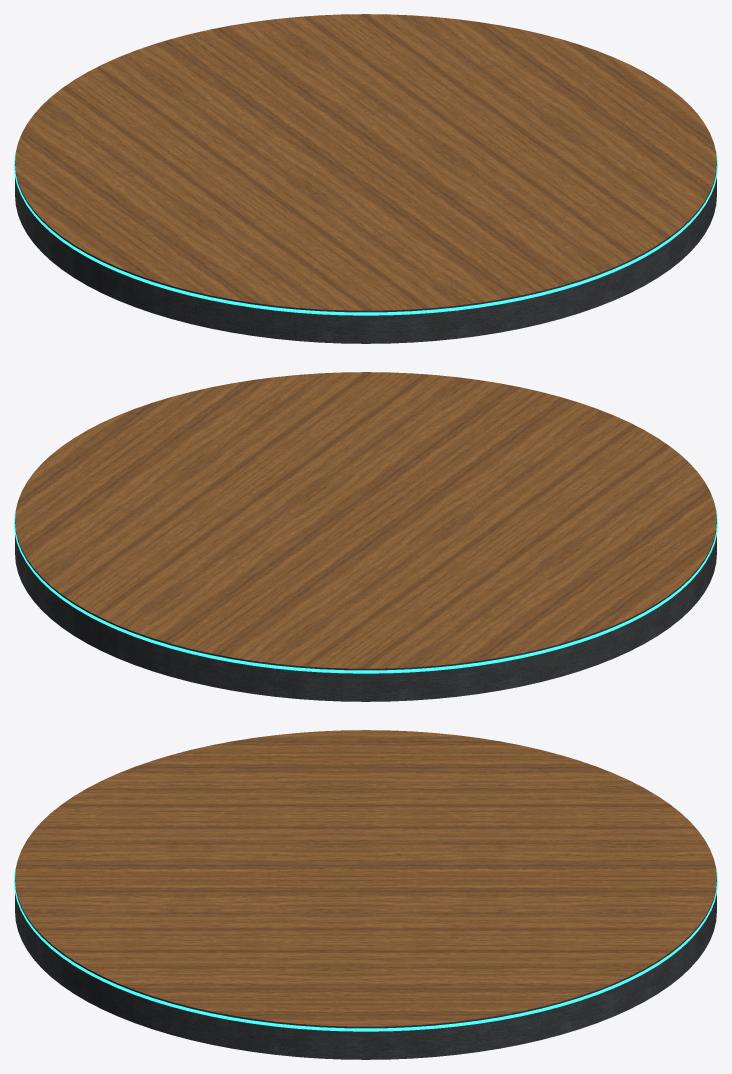
File: commons-round-stage.glb
3 views of the same model, one above another, from view 1: azimuth 30°, elevation 25°; view 2: azimuth 150°, elevation 25°; view 3: azimuth 270°, elevation 25° (orthographic).
Visible parts, largest first — view 1: AV_Stage.001, AV_StageEdge.001; view 2: AV_Stage.001, AV_StageEdge.001; view 3: AV_Stage.001, AV_StageEdge.001.
Boxes of the visible parts, <box> form: AV_Stage.001: <box>15,14,716,343</box>; AV_StageEdge.001: <box>14,146,717,315</box>; AV_Stage.001: <box>15,372,716,701</box>; AV_StageEdge.001: <box>14,504,717,673</box>; AV_Stage.001: <box>15,730,716,1059</box>; AV_StageEdge.001: <box>14,862,717,1031</box>.
Bounding box in the file's own units: 4.81 × 0.25 × 4.81.
3 materials, 2 textured.
